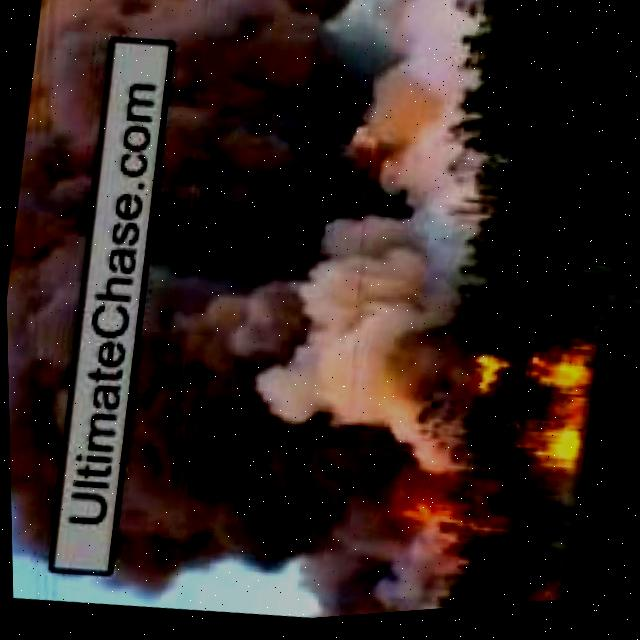Fire: (455, 340, 596, 484), (391, 494, 489, 540), (508, 590, 554, 611)
Smoke: (101, 0, 502, 634), (0, 0, 120, 557)
